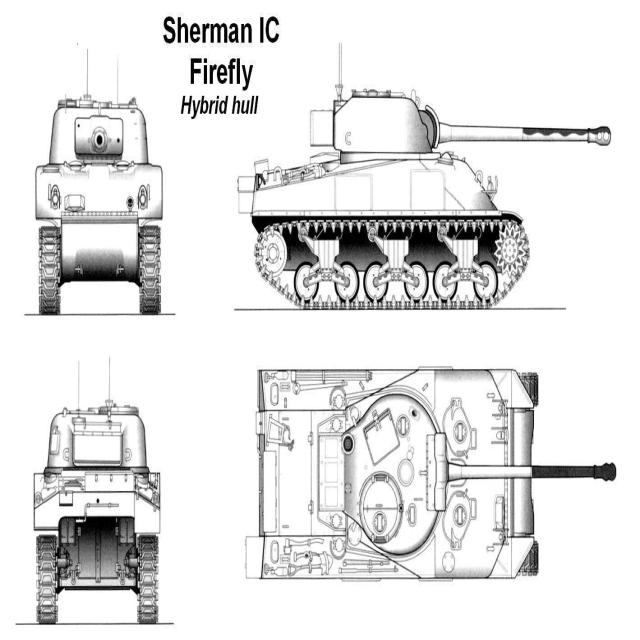Tanks: (238, 82, 606, 318), (251, 359, 540, 580), (34, 83, 164, 320), (30, 393, 160, 616)
